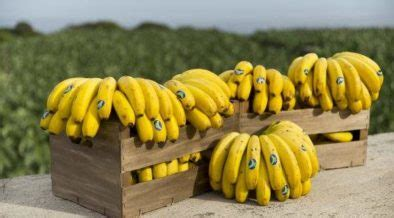banana: (259, 133, 286, 193), (117, 75, 148, 118), (243, 132, 263, 193), (323, 55, 346, 104), (95, 73, 117, 122), (312, 53, 329, 100)
